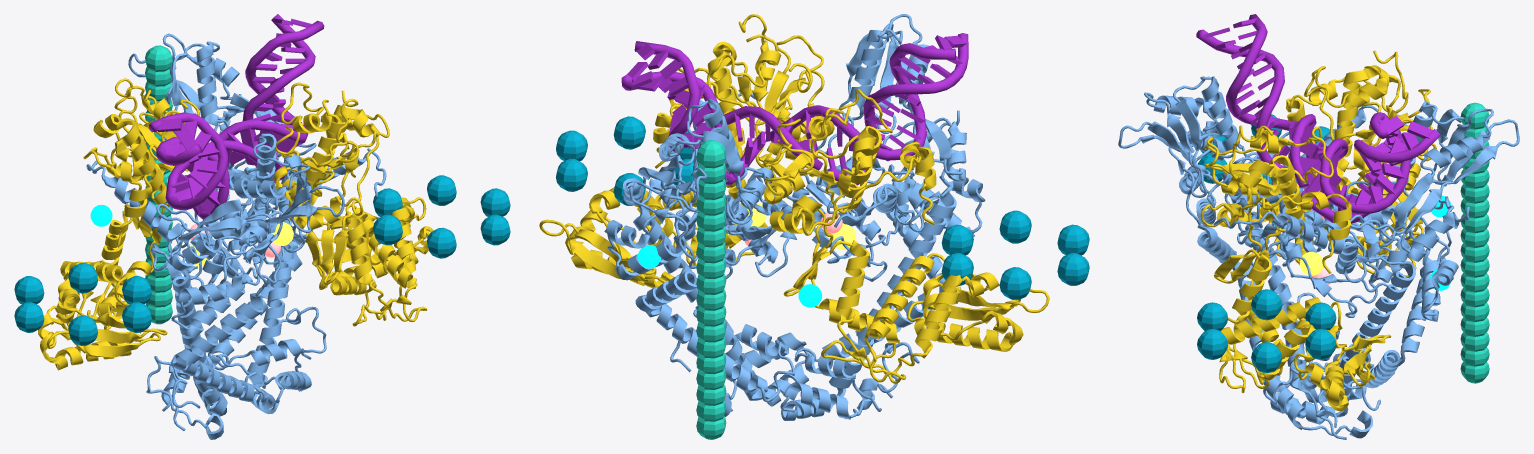
The model's file is 1AB4_assembled_pieces.glb.
3 views of the same model, side by side, from view 1: azimuth 30°, elevation 25°; view 2: azimuth 150°, elevation 25°; view 3: azimuth 270°, elevation 25° (orthographic). The views are drawn at different scales.
Parts seen in each view (by area): view 1: Piece_Gyrase_GyrA_Dimer, Piece_Gyrase_GyrB_Dimer, Piece_Gyrase_G_Segment, Piece_Gyrase_CTD_Pinwheels, Piece_Gyrase_T_Segment; view 2: Piece_Gyrase_GyrA_Dimer, Piece_Gyrase_GyrB_Dimer, Piece_Gyrase_G_Segment, Piece_Gyrase_T_Segment, Piece_Gyrase_CTD_Pinwheels, Piece_Gyrase_ATP_Sites, Piece_Gyrase_Tyr122_Active; view 3: Piece_Gyrase_GyrA_Dimer, Piece_Gyrase_GyrB_Dimer, Piece_Gyrase_G_Segment, Piece_Gyrase_T_Segment, Piece_Gyrase_CTD_Pinwheels, Piece_Gyrase_Tyr122_Active.
Boxes of the visible parts, <box> form: Piece_Gyrase_GyrA_Dimer: <box>86,33,386,439</box>; Piece_Gyrase_GyrB_Dimer: <box>38,78,433,370</box>; Piece_Gyrase_G_Segment: <box>148,14,324,219</box>; Piece_Gyrase_CTD_Pinwheels: <box>14,175,510,345</box>; Piece_Gyrase_T_Segment: <box>145,45,172,324</box>; Piece_Gyrase_GyrA_Dimer: <box>604,14,985,420</box>; Piece_Gyrase_GyrB_Dimer: <box>539,14,1049,383</box>; Piece_Gyrase_G_Segment: <box>621,33,968,185</box>; Piece_Gyrase_T_Segment: <box>696,139,726,439</box>; Piece_Gyrase_CTD_Pinwheels: <box>556,116,1089,300</box>; Piece_Gyrase_ATP_Sites: <box>637,245,821,307</box>; Piece_Gyrase_Tyr122_Active: <box>744,202,856,249</box>; Piece_Gyrase_GyrA_Dimer: <box>1118,76,1519,439</box>; Piece_Gyrase_GyrB_Dimer: <box>1200,50,1436,411</box>; Piece_Gyrase_G_Segment: <box>1196,14,1440,223</box>; Piece_Gyrase_T_Segment: <box>1460,102,1489,383</box>; Piece_Gyrase_CTD_Pinwheels: <box>1197,114,1336,373</box>; Piece_Gyrase_Tyr122_Active: <box>1299,217,1323,275</box>.
Bounding box in the file's own units: 16.5 × 11.05 × 11.57.
